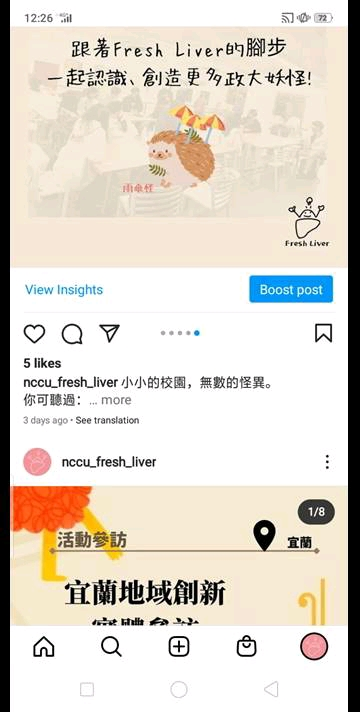border_options: (318, 446, 336, 475)
icon_bookmark: (307, 317, 341, 350)
icon_nav: (28, 627, 129, 664)
